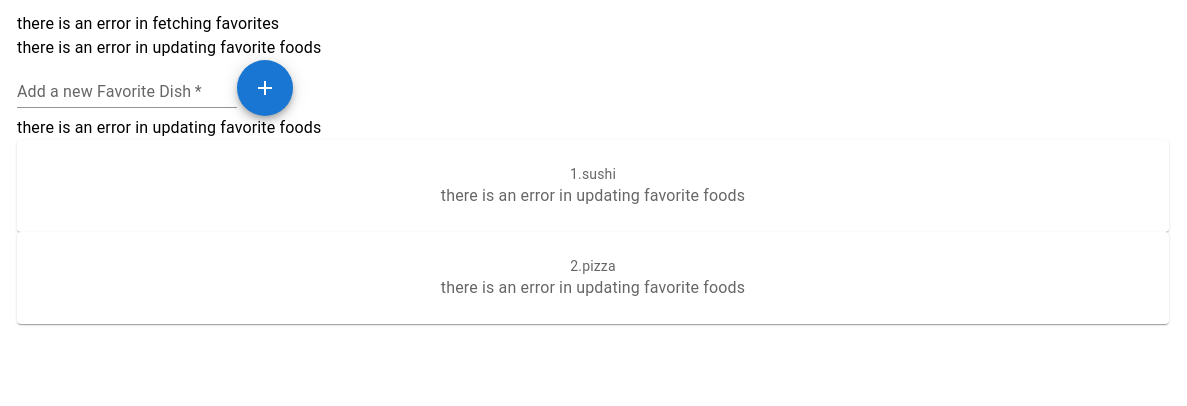
Test: FavoriteFoods › if currentUser matches profileUser, should display addFavorite component and draggable list of favoriteFoods. On mouse hover on list item, should show View Revi
Expected: the field labelled "Add a new Favorite Dish *" is shown, left=17, top=76, right=237, bottom=108
Expected: the button named "add" is shown, left=237, top=60, right=293, bottom=116
Hover over the button named "item0" at (593, 186), box left=17, top=140, right=1169, bottom=232
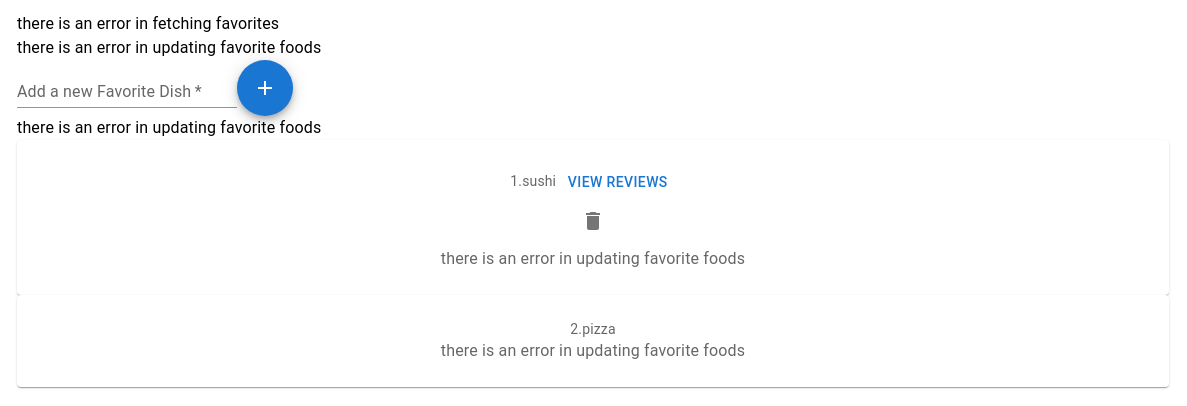
Now the button with aria-label "viewReview-0" is shown, box left=560, top=164, right=676, bottom=200
Now the button named "delete-0" is shown, box left=573, top=200, right=613, bottom=246
